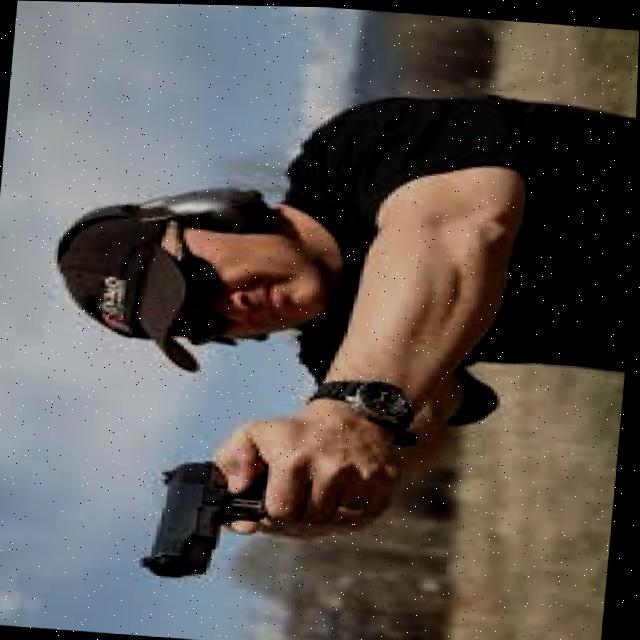pistol: (142, 456, 272, 582)
